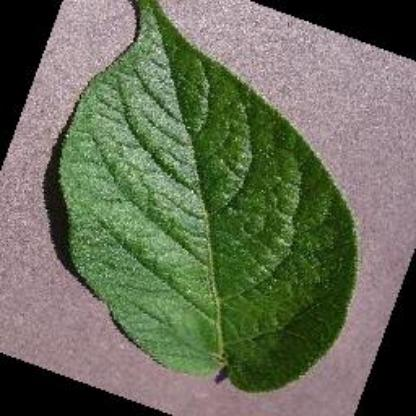Healthy-plant: (48, 0, 368, 390)
